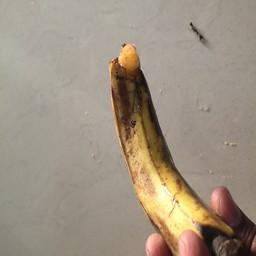Bad_banana: (107, 41, 226, 253)
